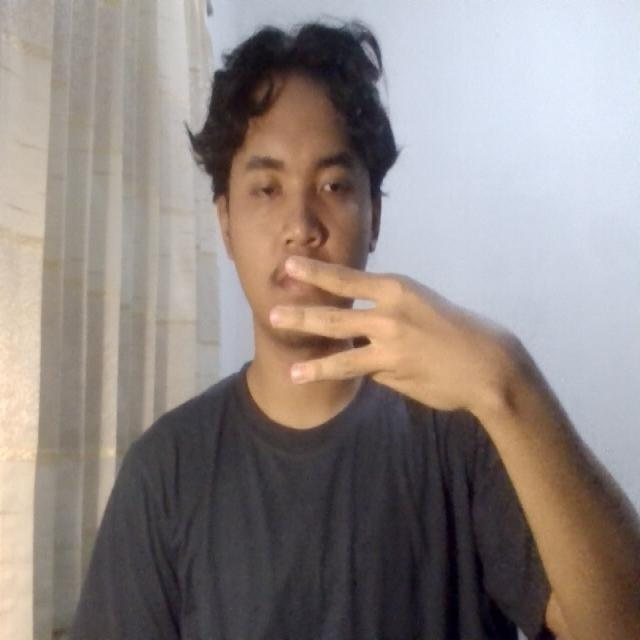E: (253, 235, 474, 440)
